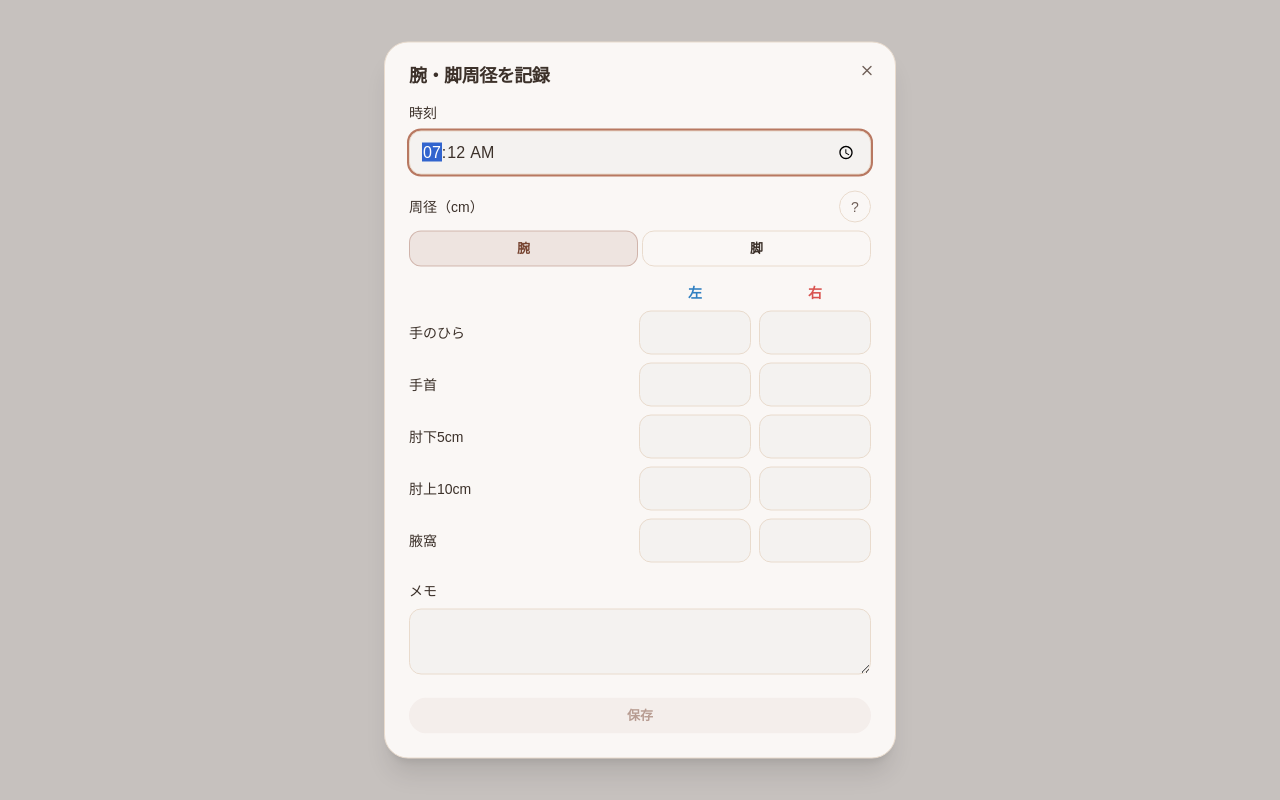
Test: ModuleRecordDialog › disables save on 腕・脚周径 while every field is empty
This screenshot has width=1280, height=800.
expect the button "保存" is disabled: met, box x1=409 y1=698 x2=871 y2=734
Type "15.0" into the number field named "手首 左" at (695, 384), box x1=639 y1=362 x2=751 y2=406
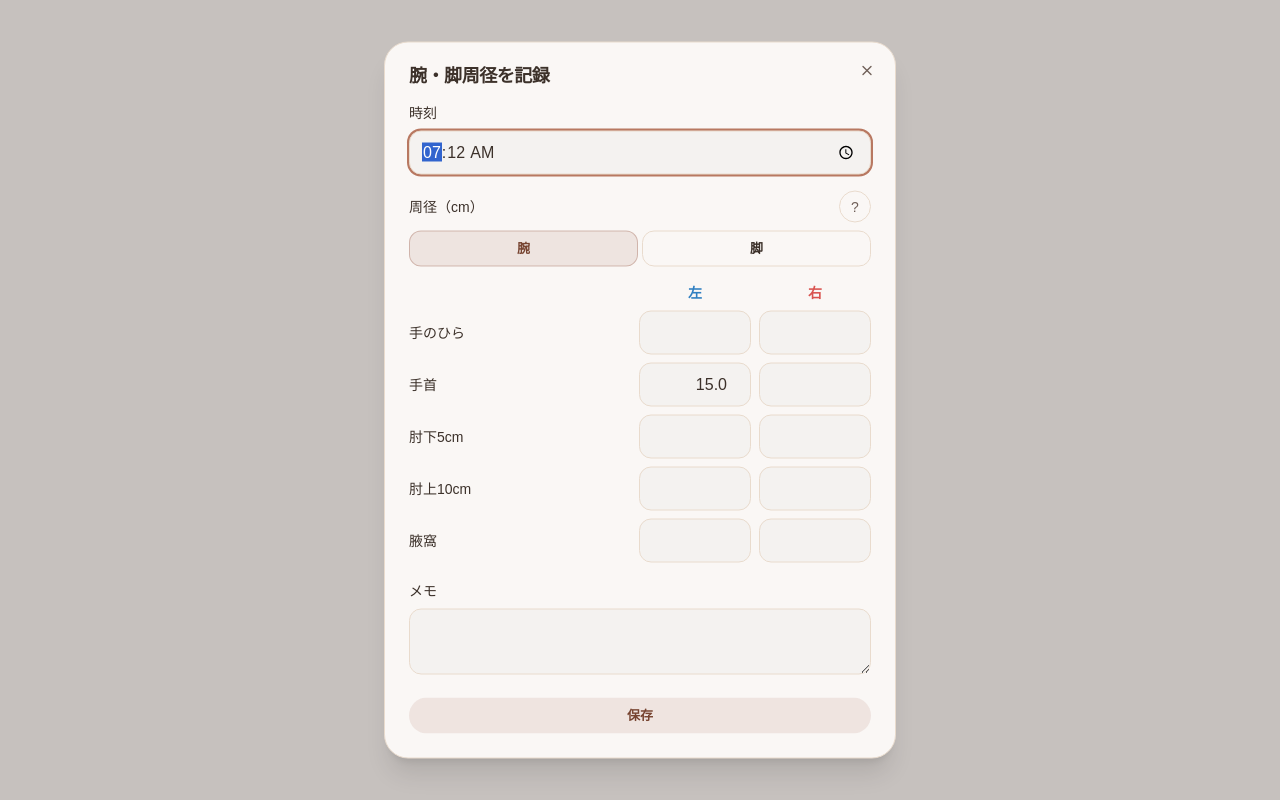
expect the button "保存" is enabled: met, box x1=409 y1=698 x2=871 y2=734
